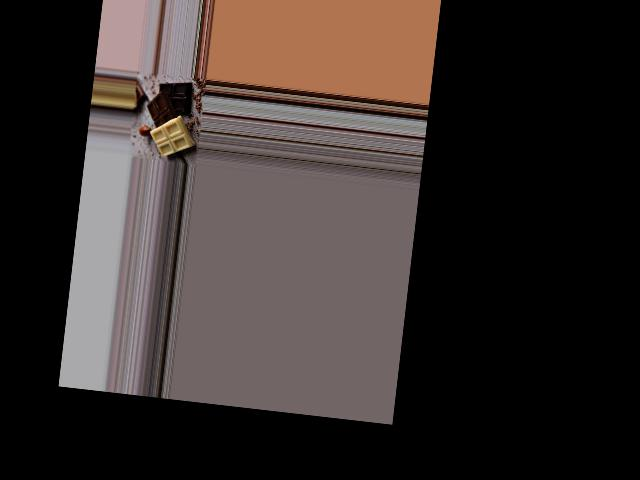chocolate: (141, 74, 197, 159)
